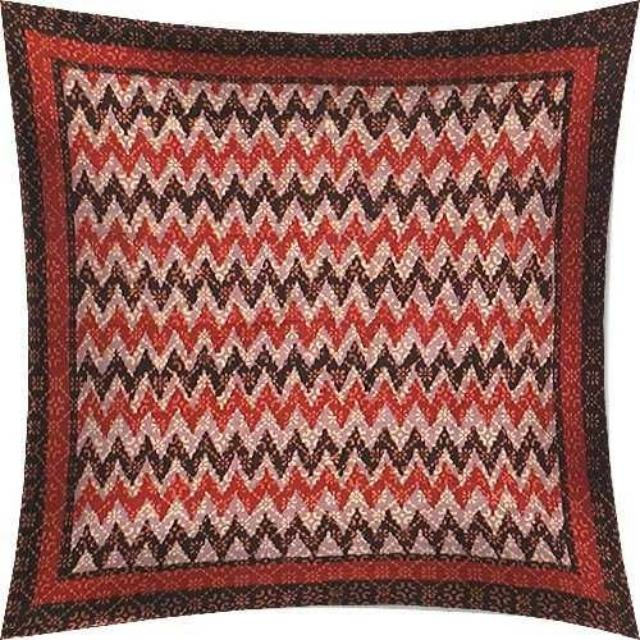pillow: (0, 0, 638, 638)
